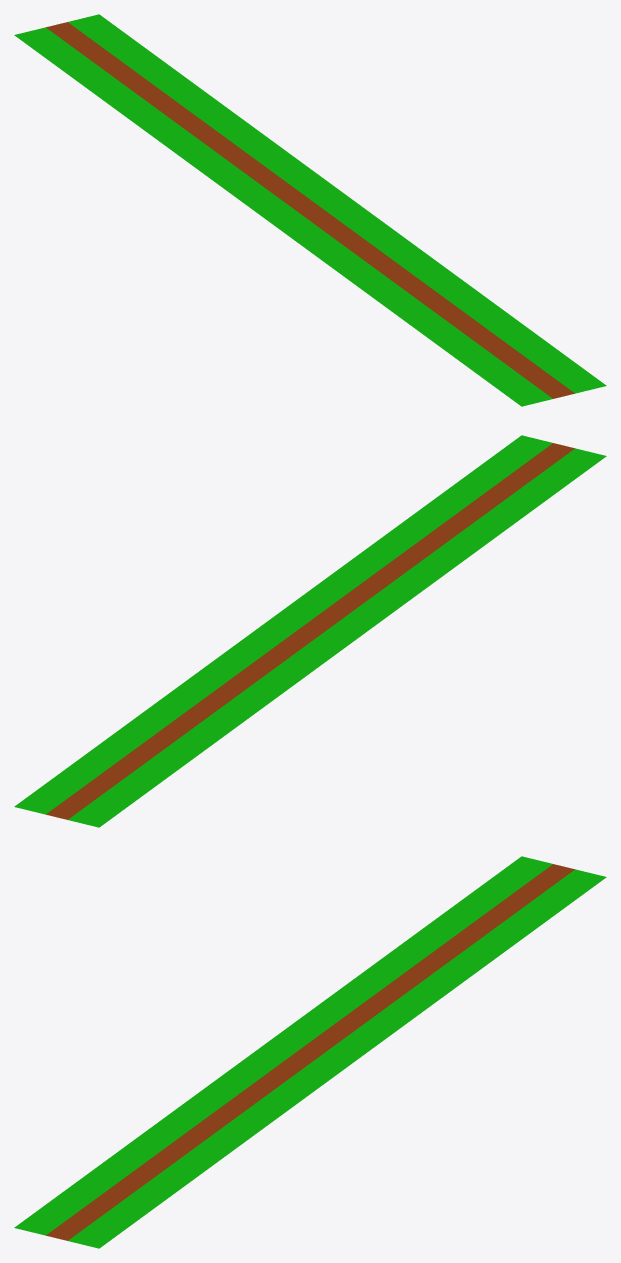
The model's file is terra.glb.
3 renders of one model, top to bottom at view 1: azimuth 30°, elevation 25°; view 2: azimuth 150°, elevation 25°; view 3: azimuth 330°, elevation 25°, orthographic.
Parts seen in each view (by area): view 1: herba.E, Terra; view 2: herba.E, Terra; view 3: herba.E, Terra.
Boxes of the visible parts, <box> form: herba.E: <box>14,14,606,406</box>; Terra: <box>46,22,574,398</box>; herba.E: <box>14,435,606,827</box>; Terra: <box>46,443,574,819</box>; herba.E: <box>14,856,606,1248</box>; Terra: <box>46,864,574,1240</box>.
Size of the model in its own units: 23.28 by 0 by 240.
